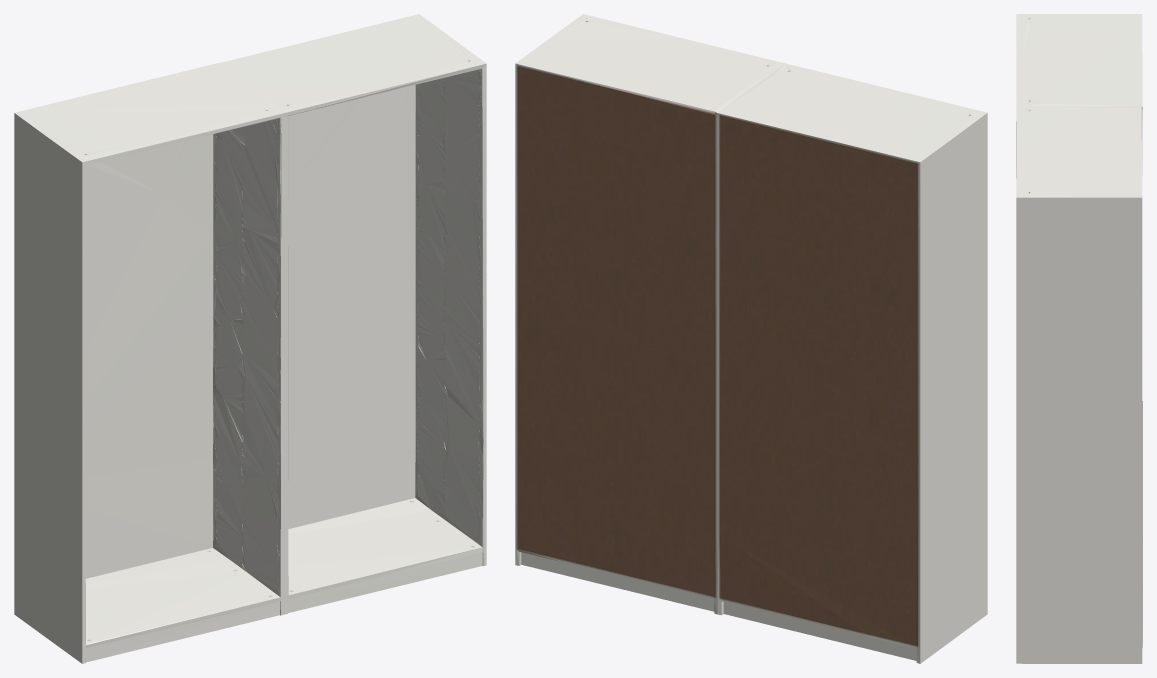
3 renders of one model, left to right at view 1: azimuth 30°, elevation 25°; view 2: azimuth 150°, elevation 25°; view 3: azimuth 270°, elevation 25°, orthographic. The views are drawn at different scales.
Parts seen in each view (by area): view 1: ProcessedGeometry; view 2: ProcessedGeometry; view 3: ProcessedGeometry.
Part boxes in pixels (x1=…): ProcessedGeometry: x1=14, y1=14, x2=486, y2=663; ProcessedGeometry: x1=515, y1=14, x2=987, y2=663; ProcessedGeometry: x1=1016, y1=14, x2=1142, y2=663.
Bounding box in the file's own units: 2 × 2.36 × 0.58.
1 material, 1 textured.
